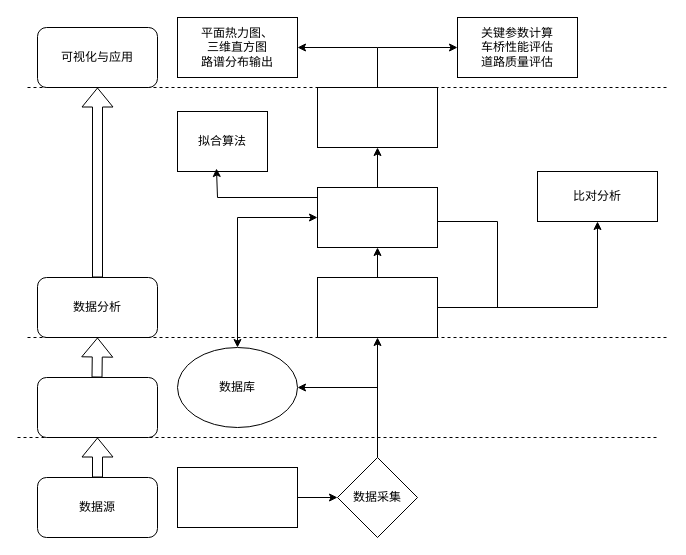
Image size: 686x555. Some labels were removed from this diagram. Each missing label, with the centre of its shape:
"传感器道路测试" goes at (x=237, y=497).
"分析算法" goes at (x=377, y=117).
"处理后数据" goes at (x=377, y=217).
"数据存储" goes at (x=97, y=407).
"预处理算法" goes at (x=377, y=307).
